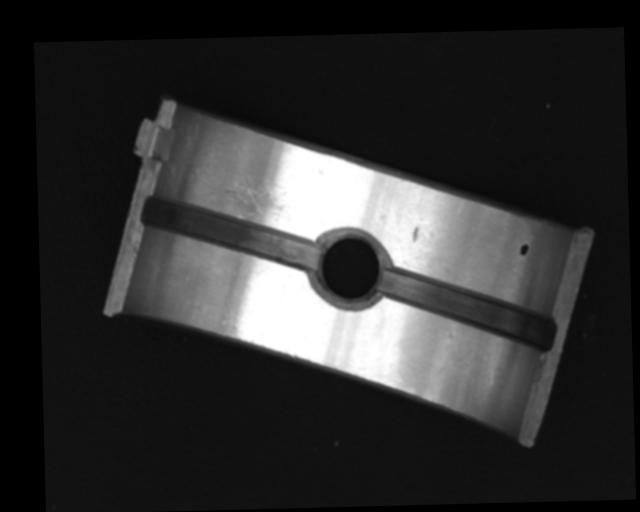blot: (518, 241, 530, 257)
bruise: (411, 226, 419, 242)
gap: (379, 265, 557, 352), (139, 191, 320, 274)
hole: (312, 230, 390, 307)
scratch: (199, 171, 297, 224)
